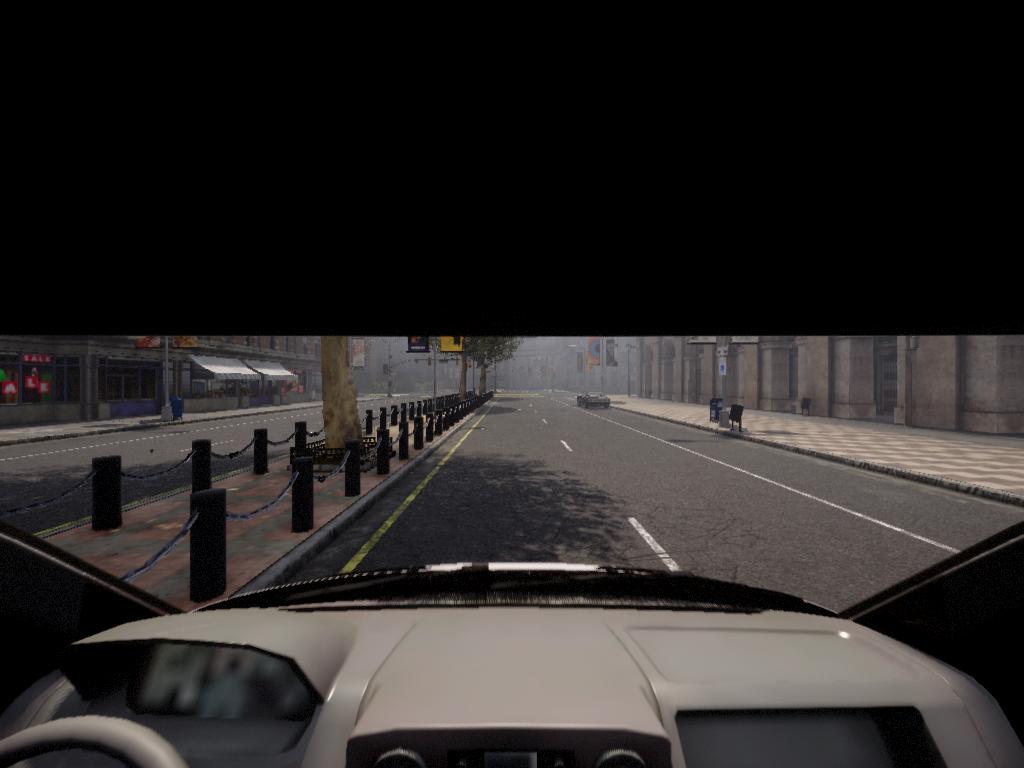traffic_light: (384, 364, 390, 378), (428, 357, 433, 368), (456, 357, 460, 367)
